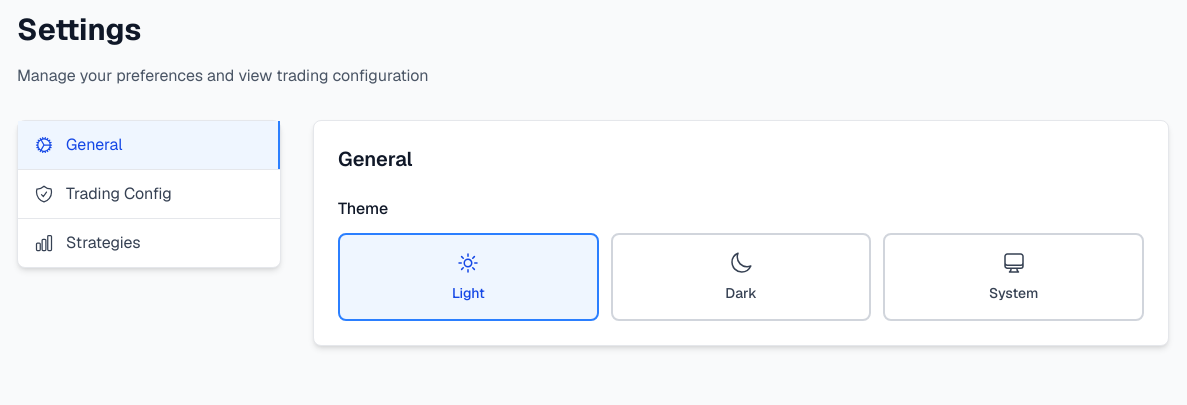
Scenario: Settings Page › switches to Strategies section
Click the button "Strategies".
click(103, 242)  # box [18,219,280,267]
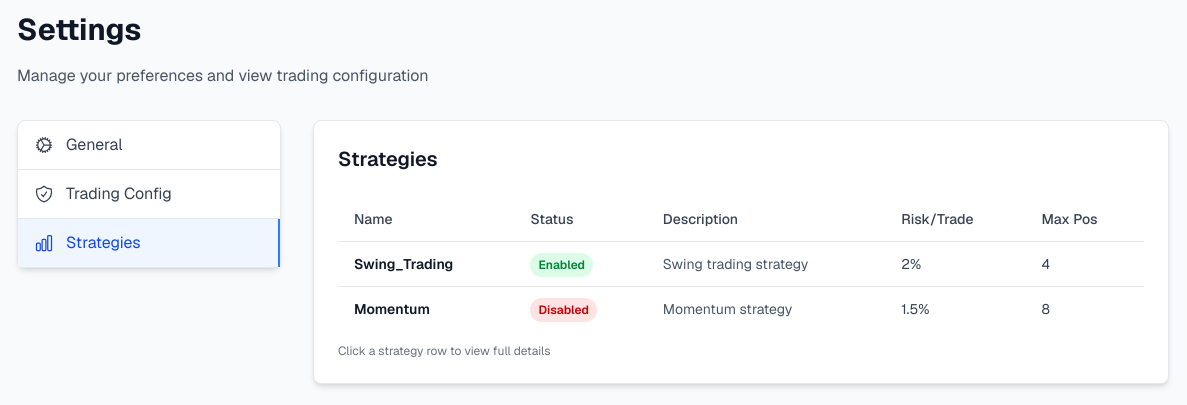
Check: the text "Swing_Trading" is shown, box [338,242,514,286]
